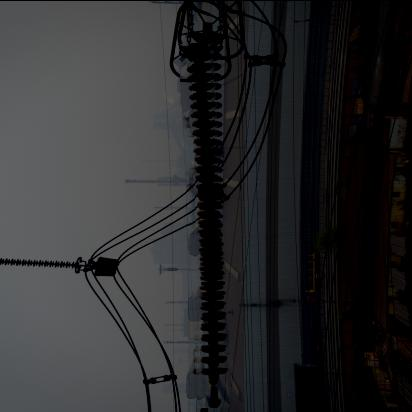insulator: (184, 43, 229, 409)
